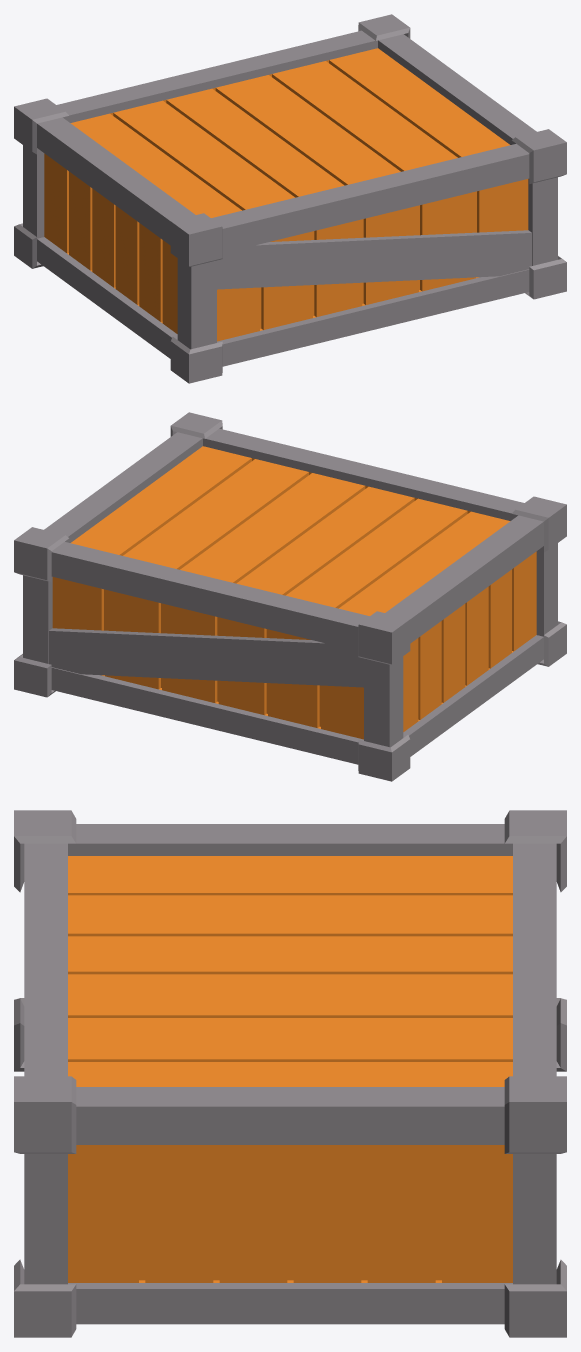
The model's file is little_long_Crate_box.fbx.
3 views of the same model, one above another, from view 1: azimuth 30°, elevation 25°; view 2: azimuth 150°, elevation 25°; view 3: azimuth 270°, elevation 25° (orthographic). The views are drawn at different scales.
Visible parts, largest first — view 1: Cube; view 2: Cube; view 3: Cube.
Part boxes in pixels (left/top/right/bottom): Cube: left=14, top=14, right=566, bottom=383; Cube: left=14, top=412, right=566, bottom=781; Cube: left=14, top=810, right=566, bottom=1337.
Bounding box in the file's own units: 259 × 97.61 × 208.
